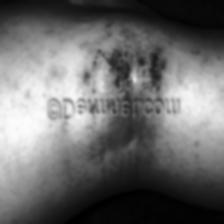Non-Cancerous Skin Condition: (81, 48, 169, 98)
